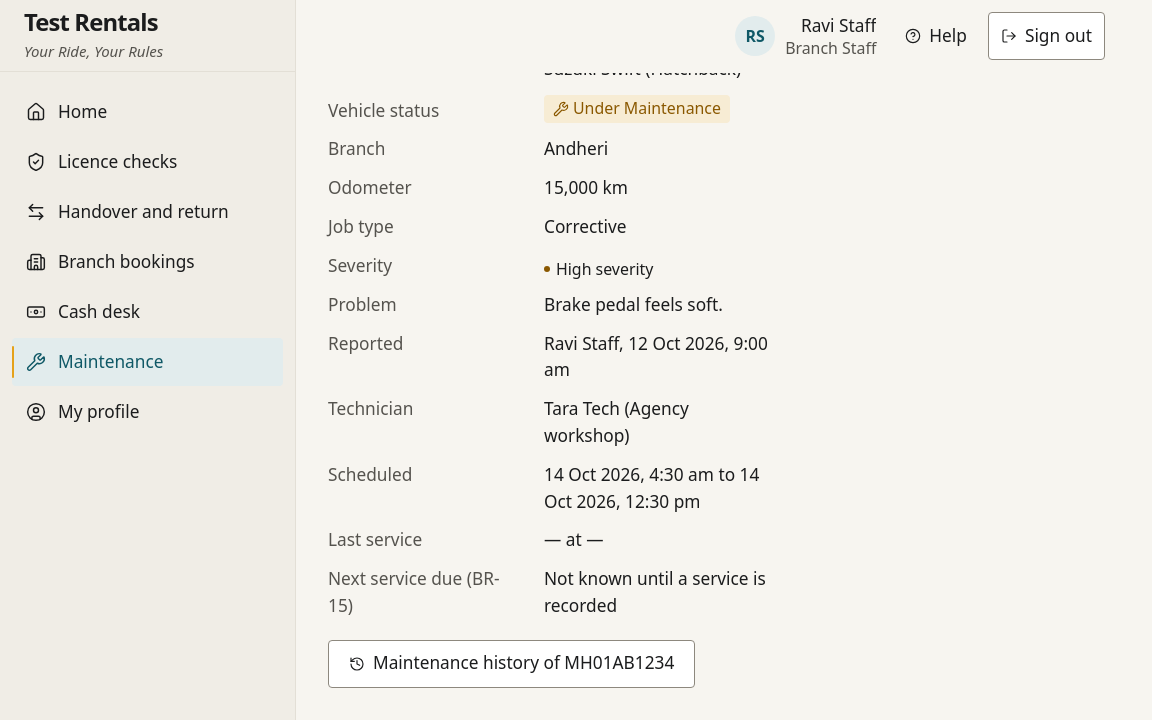
Maint.History › lists every job on the vehicle with its date, type, odometer, work, parts, cost and downtime
(page scrolled)
Click the link "Maintenance history of MH01AB1234": (512, 664) [328, 640, 695, 688]
(page scrolled)
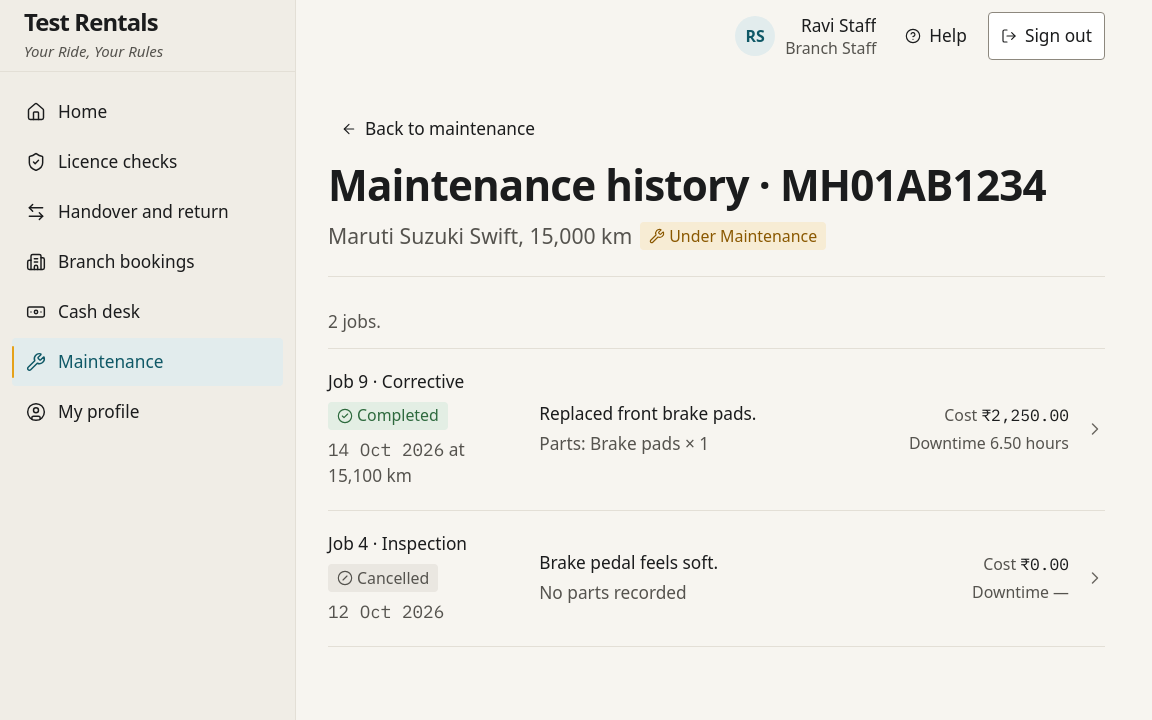
Check: the heading "Maintenance history · MH01AB1234" is shown, box [328, 161, 1105, 208]
Check: the link "Job 9 · Corrective" shows "Replaced front brake pads.", box [316, 349, 1117, 510]
Check: the link "Job 9 · Corrective" shows "Parts: Brake pads × 1", box [316, 349, 1117, 510]
